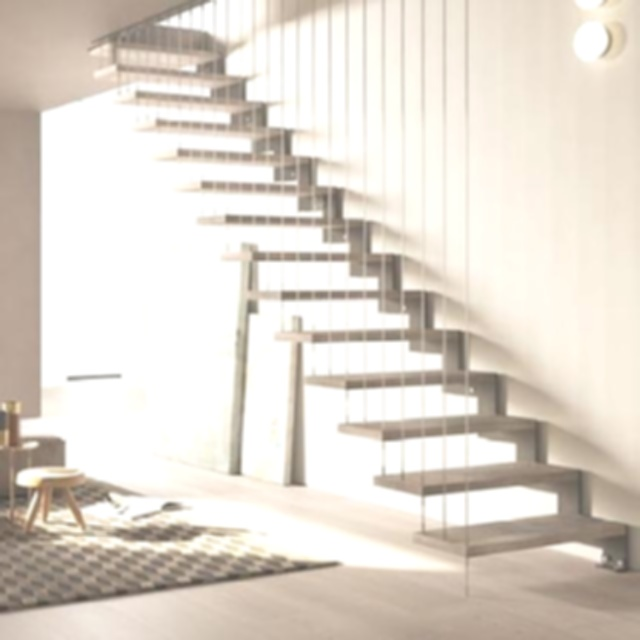stair: (89, 11, 640, 595)
